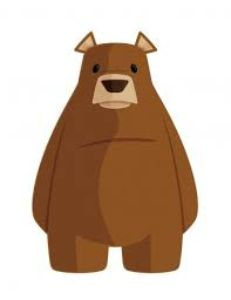bear: (34, 26, 201, 279)
